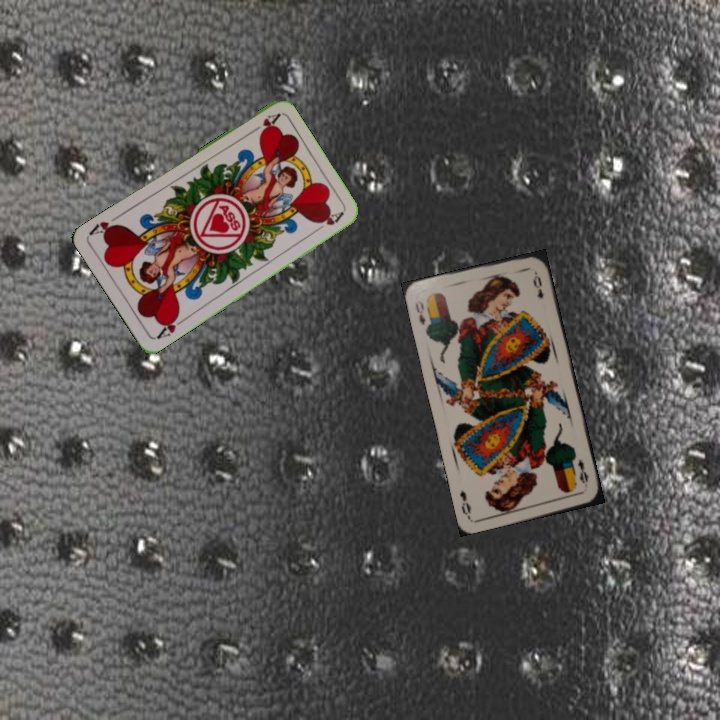EO: (573, 455, 591, 486), (411, 297, 428, 327)
HA: (152, 310, 188, 342), (244, 109, 282, 137)
